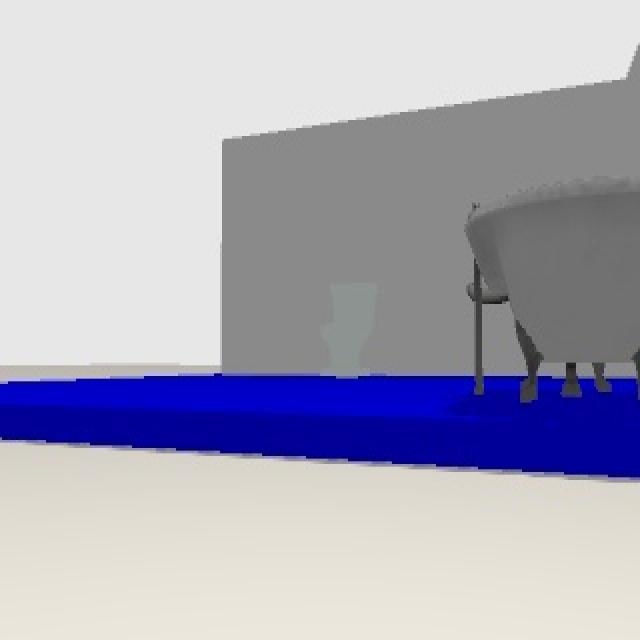bathtub: (462, 176, 638, 405)
